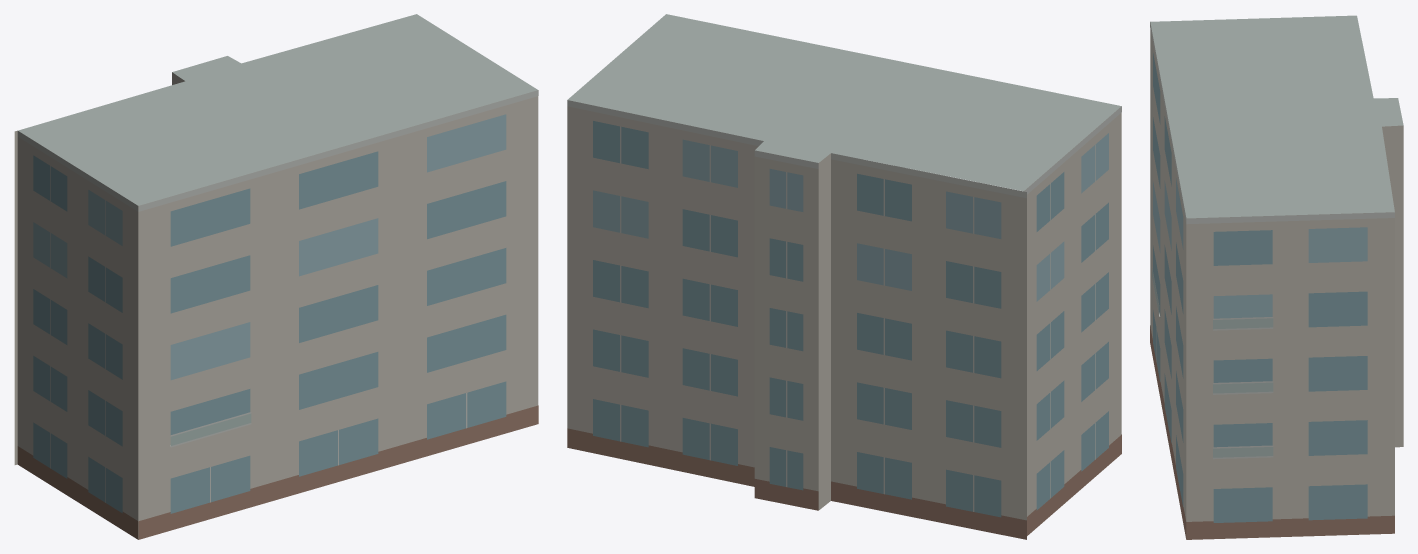
File: survey-upis-32735003.glb
3 views of the same model, side by side, from view 1: azimuth 30°, elevation 25°; view 2: azimuth 150°, elevation 25°; view 3: azimuth 270°, elevation 25° (orthographic). The views are drawn at different scales.
Visible parts, largest first — view 1: survey-upis-32735003.tmp; view 2: survey-upis-32735003.tmp; view 3: survey-upis-32735003.tmp.
Boxes of the visible parts, bbox=[...] form: survey-upis-32735003.tmp: bbox=[14, 14, 538, 539]; survey-upis-32735003.tmp: bbox=[567, 14, 1121, 539]; survey-upis-32735003.tmp: bbox=[1150, 15, 1403, 539].
Bounding box in the file's own units: 18.56 × 13.6 × 9.73.
